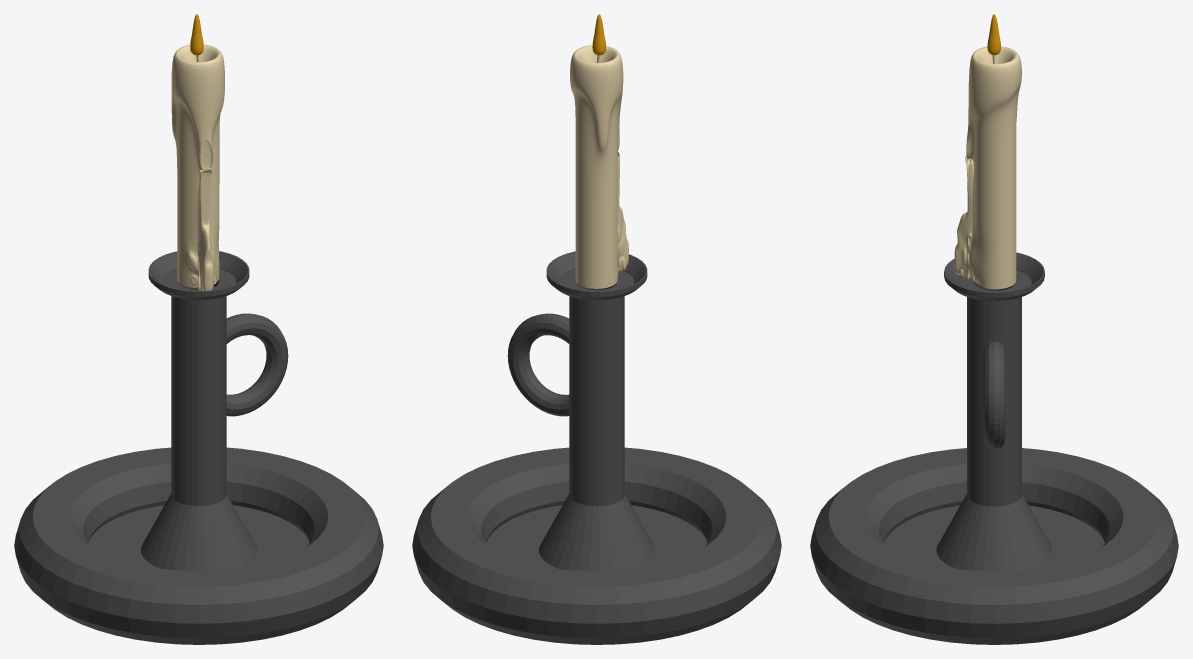
File: Candle.fbx
3 views of the same model, side by side, from view 1: azimuth 30°, elevation 25°; view 2: azimuth 150°, elevation 25°; view 3: azimuth 270°, elevation 25° (orthographic).
Parts seen in each view (by area): view 1: Cylinder, Circle; view 2: Cylinder, Circle; view 3: Cylinder, Circle.
Part boxes in pixels (x1,y1,x2,y2): Cylinder: (14,251,383,644); Circle: (171,44,224,290); Cylinder: (412,251,781,644); Circle: (570,45,628,288); Cylinder: (810,252,1178,644); Circle: (954,46,1021,289).
Bounding box in the file's own units: 3458 × 5841 × 3458.
